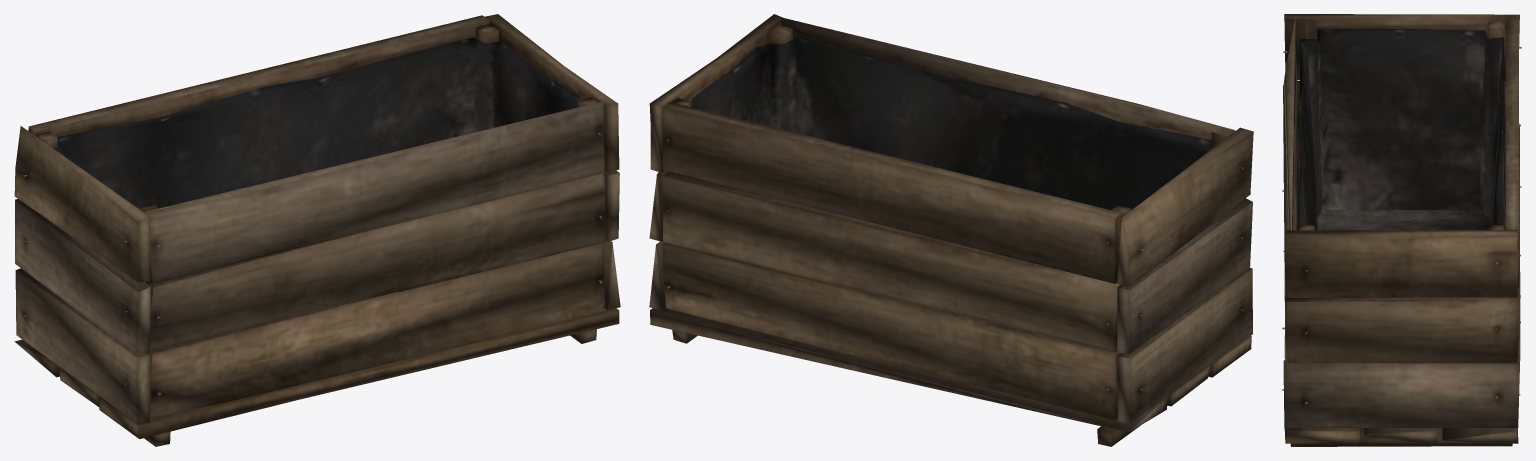
The model's file is planter_box_01.glb.
3 renders of one model, left to right at view 1: azimuth 30°, elevation 25°; view 2: azimuth 150°, elevation 25°; view 3: azimuth 270°, elevation 25°, orthographic. The views are drawn at different scales.
Visible parts, largest first — view 1: planter_box_01; view 2: planter_box_01; view 3: planter_box_01.
Part boxes in pixels (x1,y1,x2,y2): planter_box_01: (14,14,620,446); planter_box_01: (649,14,1253,446); planter_box_01: (1282,14,1521,446).
Size of the model in its own units: 0.9112 by 0.4247 by 0.4119.
Materials: 1 (1 with a texture image).
